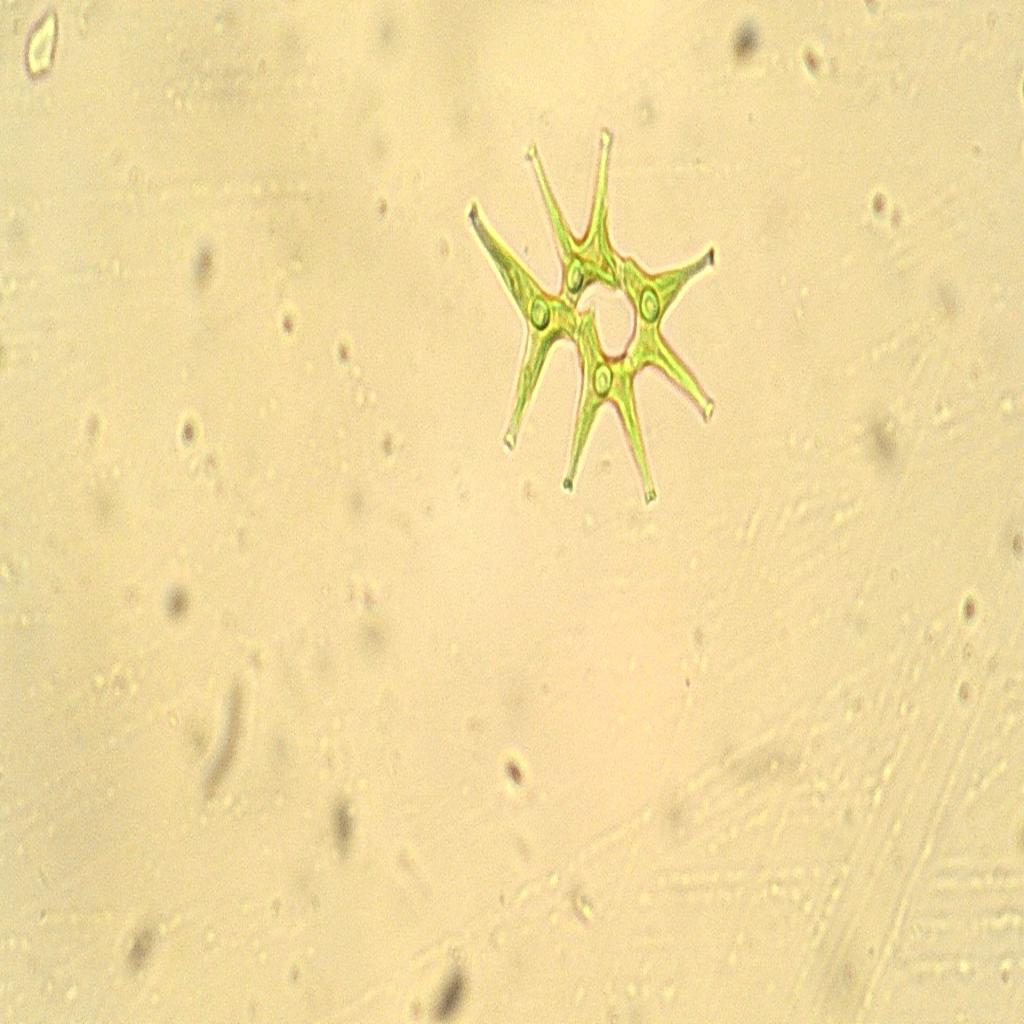Pediastrum_CF: (459, 111, 746, 545)
